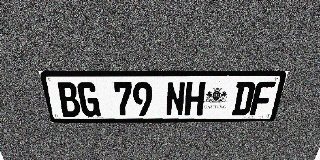7: (112, 82, 134, 116)
9: (133, 82, 152, 116)
B: (56, 82, 82, 117)
D: (231, 81, 256, 115)
F: (249, 81, 276, 115)
G: (76, 82, 101, 117)
H: (184, 82, 206, 116)
N: (166, 82, 186, 116)
